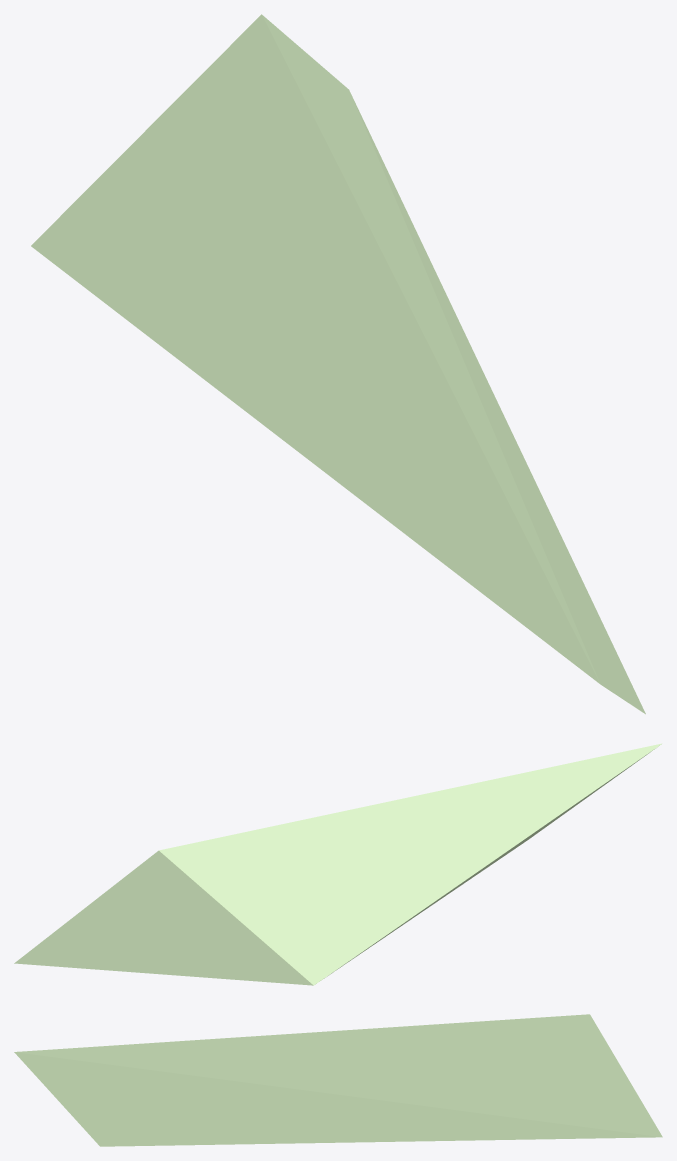
The model's file is kuka_URDF_robot_base_coll_5.dae.
3 views of the same model, one above another, from view 1: azimuth 30°, elevation 25°; view 2: azimuth 150°, elevation 25°; view 3: azimuth 270°, elevation 25° (orthographic). The views are drawn at different scales.
Visible parts, largest first — view 1: Node_0000020FCC5901C0; view 2: Node_0000020FCC5901C0; view 3: Node_0000020FCC5901C0.
Boxes of the visible parts, x1=… form: Node_0000020FCC5901C0: x1=31, y1=14, x2=645, y2=714; Node_0000020FCC5901C0: x1=14, y1=743, x2=662, y2=985; Node_0000020FCC5901C0: x1=14, y1=1014, x2=662, y2=1146.
Bounding box in the file's own units: 0.031 × 0.0234 × 0.087.
